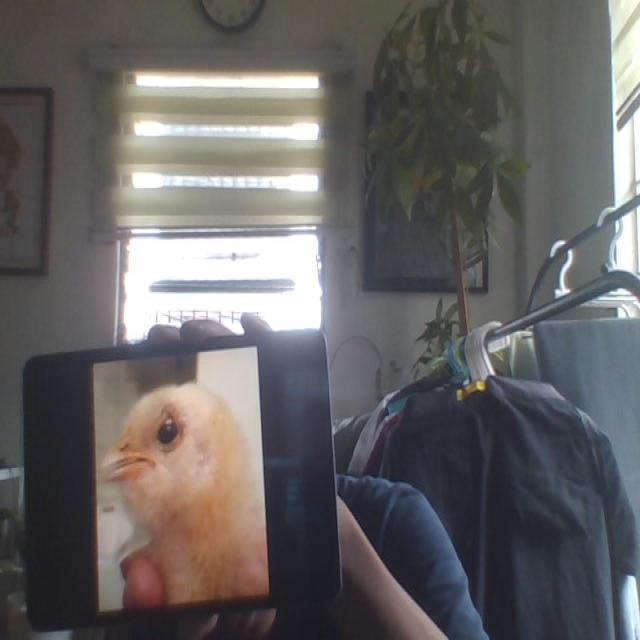Sick: (102, 385, 266, 600)
